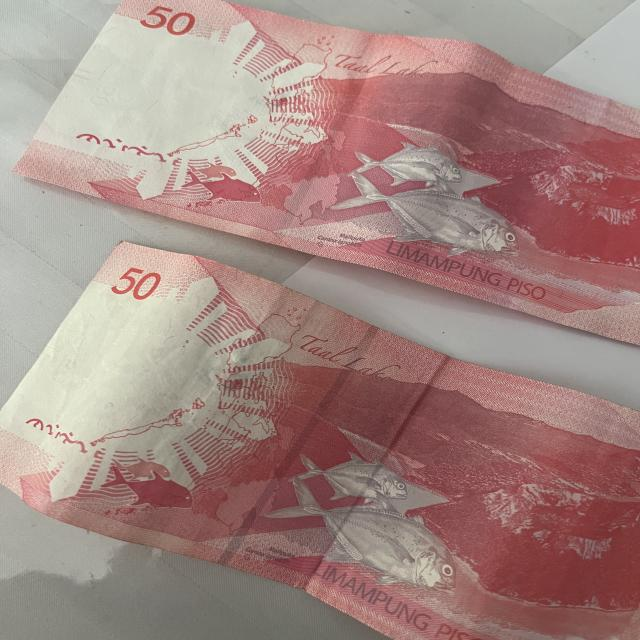50_maliputo: (254, 444, 464, 597), (326, 144, 526, 258)
50_maliputo_watermark: (91, 448, 195, 512), (164, 157, 267, 206)
